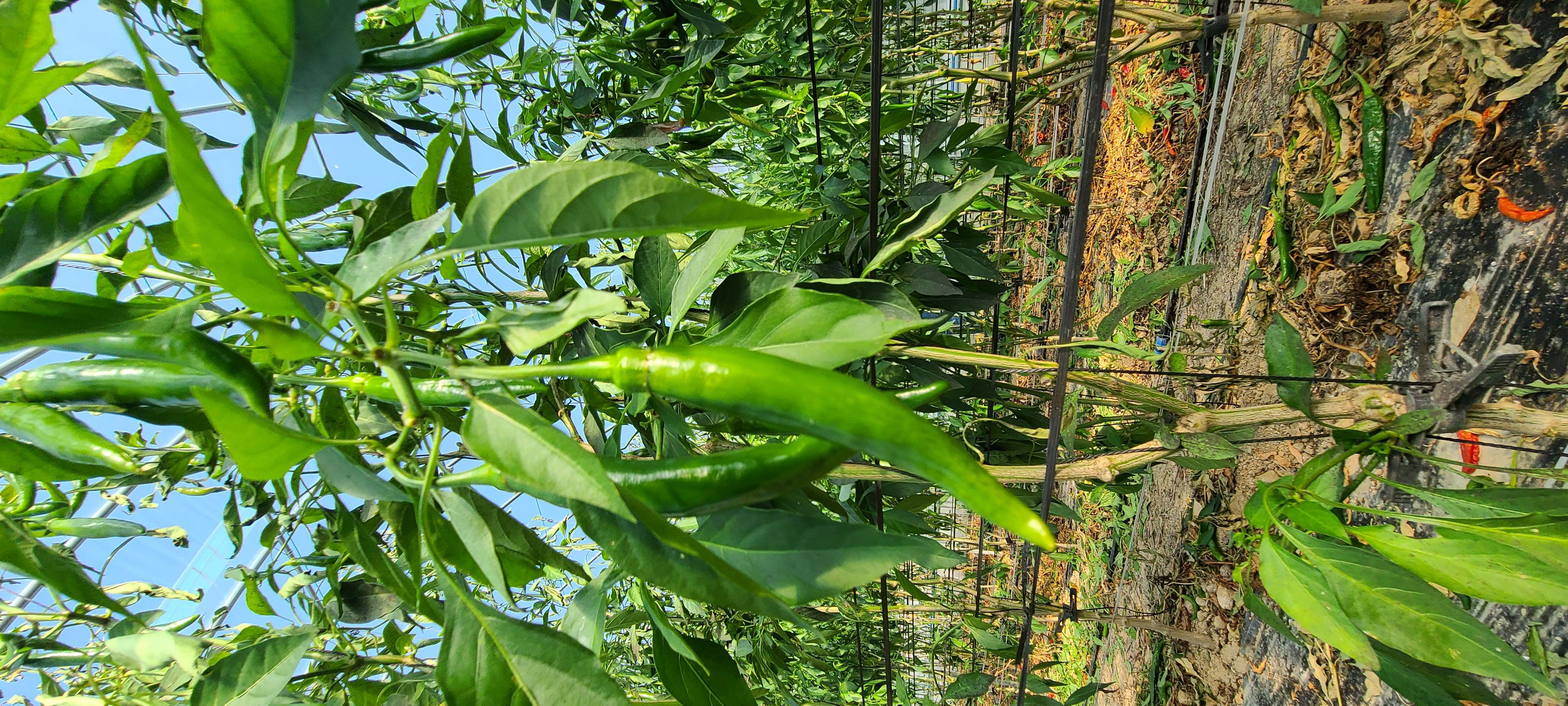Buah Cabai Sehat: (605, 323, 1060, 559)
